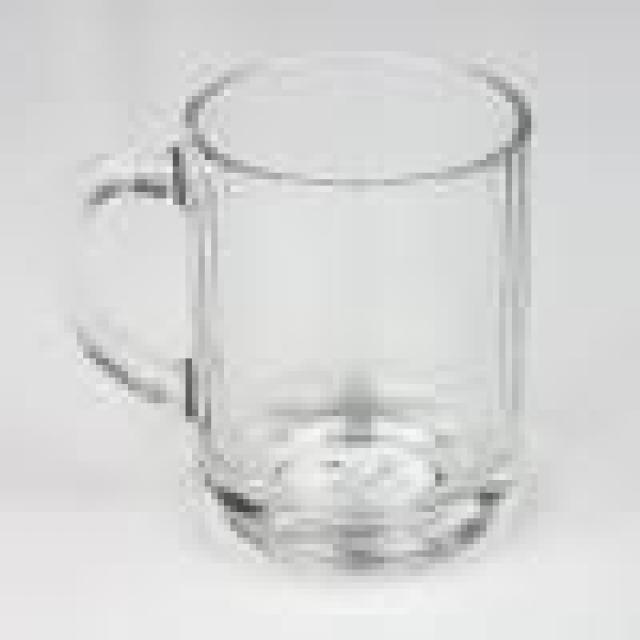glass: (64, 35, 544, 579)
